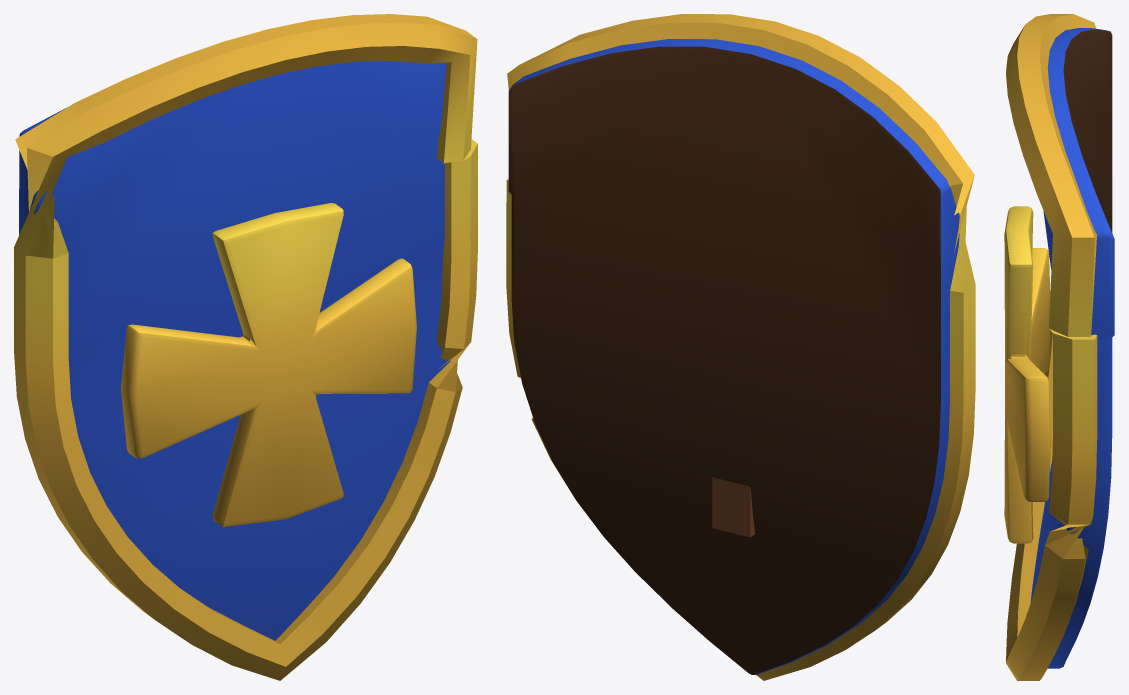
The model's file is Weapon_WarriorShield.fbx.
The picture shows the model from 3 angles, left to right: view 1: azimuth 30°, elevation 25°; view 2: azimuth 150°, elevation 25°; view 3: azimuth 270°, elevation 25°; orthographic projection. The views are drawn at different scales.
Visible parts, largest first — view 1: RoyalShield; view 2: RoyalShield; view 3: RoyalShield.
Boxes of the visible parts, x1,y1,x2,y2 form: RoyalShield: (14, 14, 477, 680); RoyalShield: (506, 14, 975, 680); RoyalShield: (1004, 14, 1114, 680).
Bounding box in the file's own units: 0.3597 × 0.4891 × 0.078.
